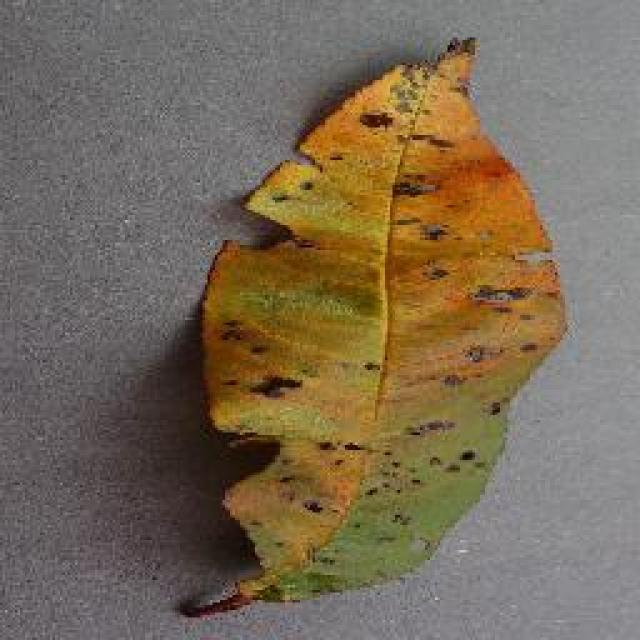Peach_Bacterial_Spot: (274, 120, 524, 485)
